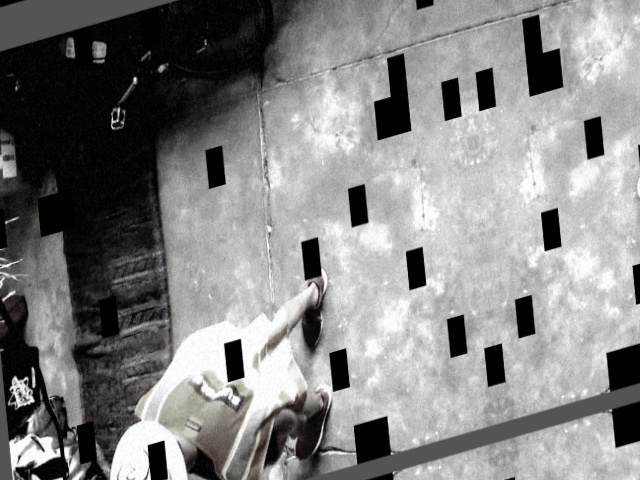three: (115, 444, 151, 479)
